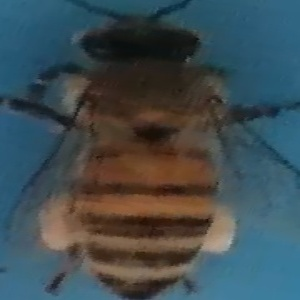bee: (10, 2, 293, 300)
